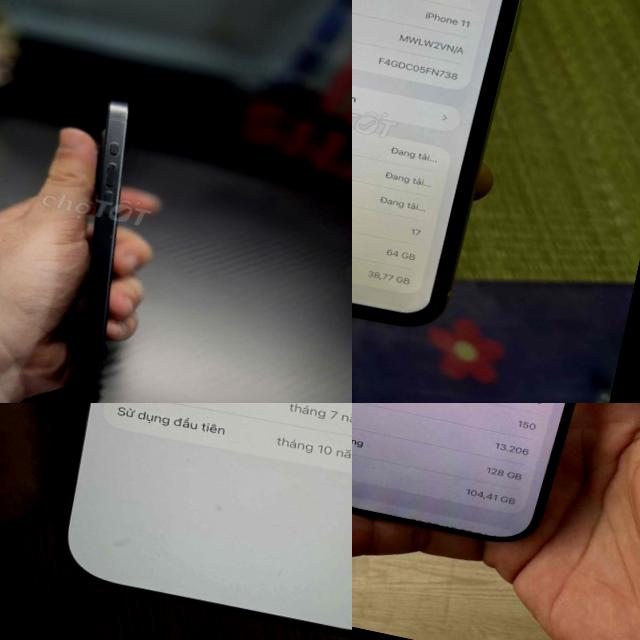scratch: (91, 152, 132, 224)
